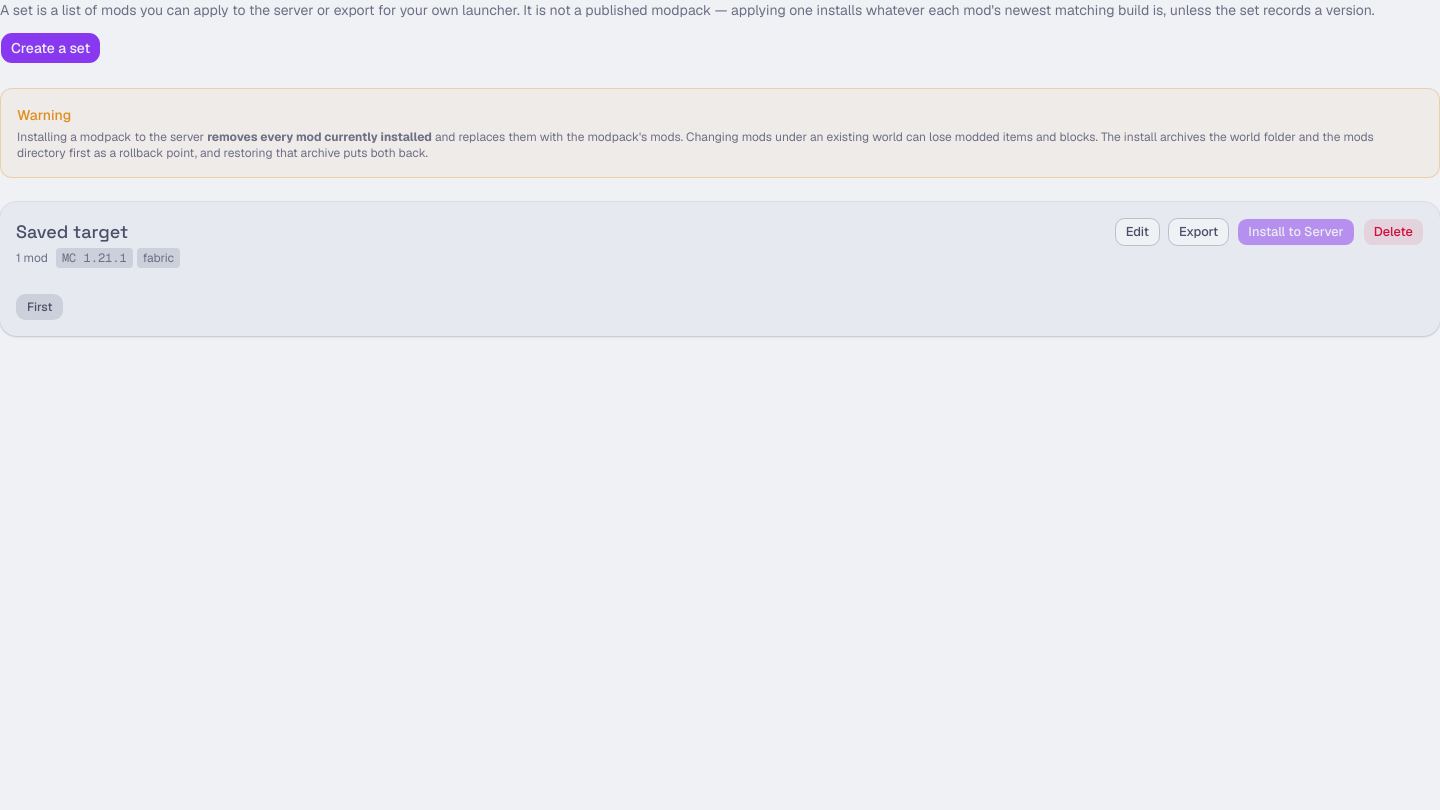
export completeness › does not assume a target for a legacy export with unknown saved version and loader
Click the button "Export": click(1199, 232) [1168,218,1229,246]
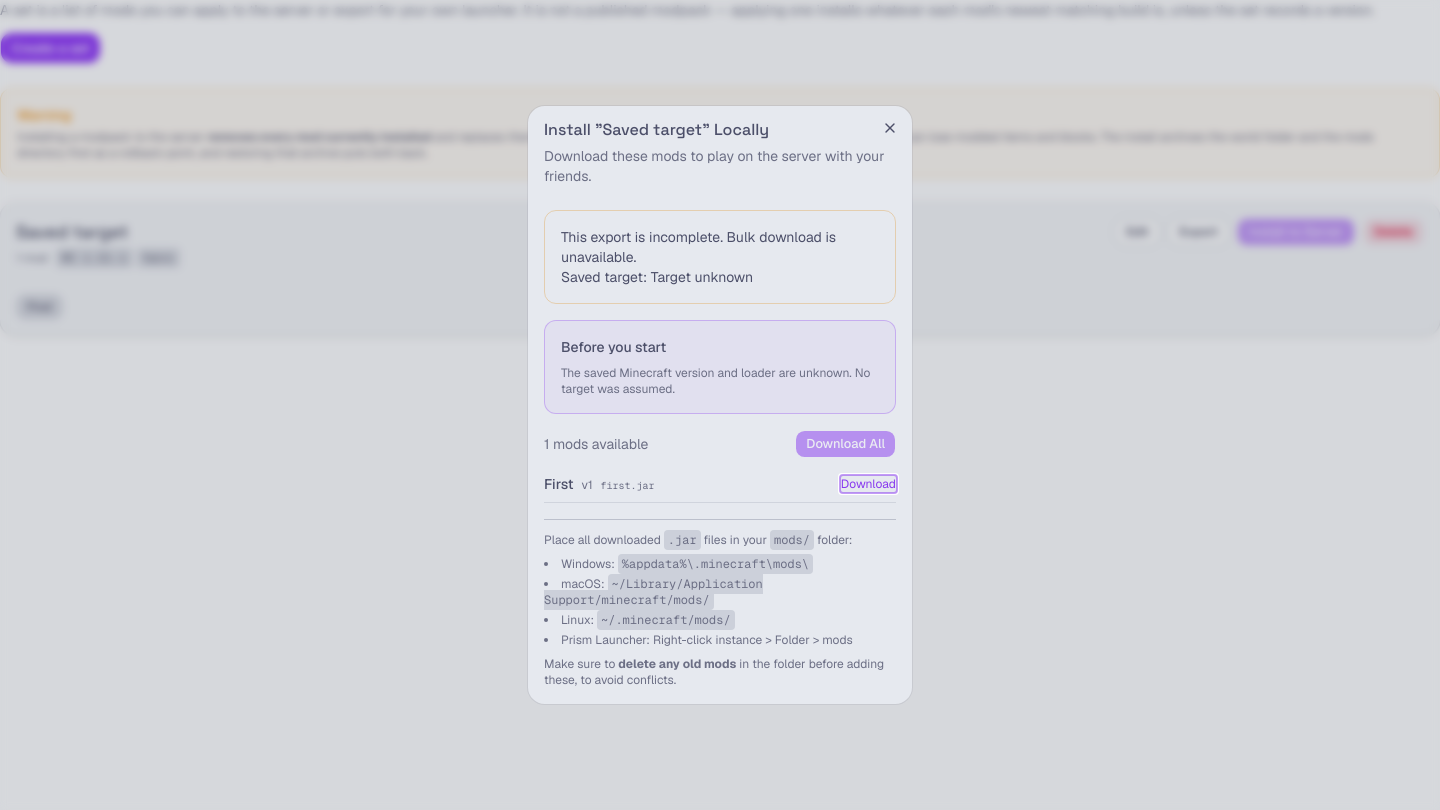
Expected: the heading "Install \"Saved target\" Locally" is shown, [544,119,769,140]
Expected: the text "No target was assumed" is shown, [561,365,870,397]
Expected: the button "Download All" is disabled, [795,430,896,458]
